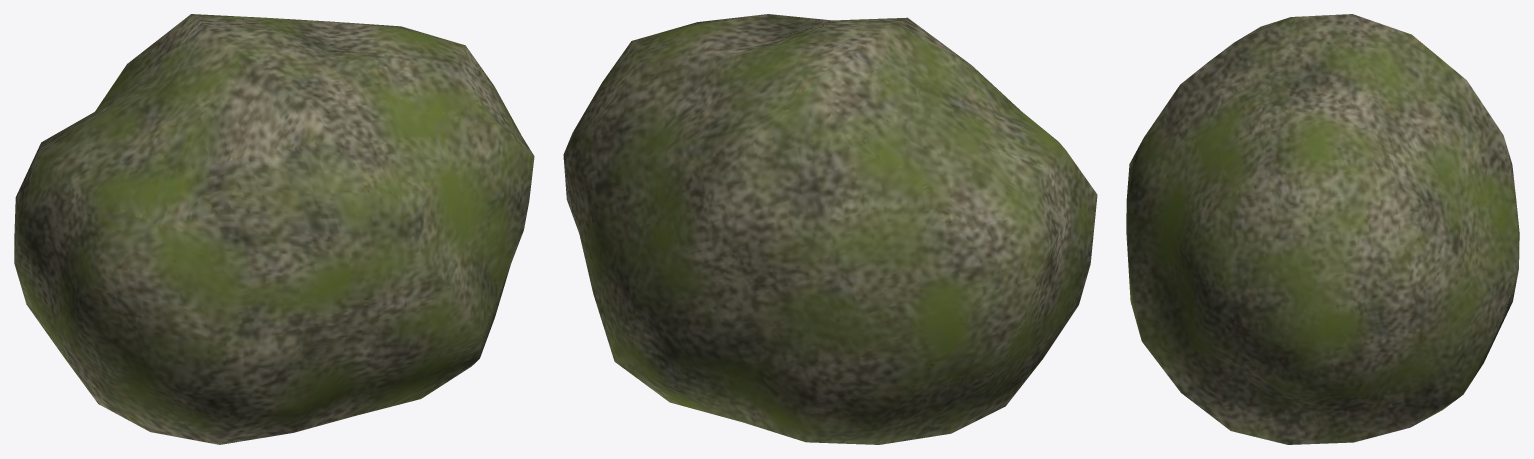
Rendered from Mossy_Stone.glb.
3 renders of one model, left to right at view 1: azimuth 30°, elevation 25°; view 2: azimuth 150°, elevation 25°; view 3: azimuth 270°, elevation 25°, orthographic. The views are drawn at different scales.
Parts seen in each view (by area): view 1: Mossy_Stone; view 2: Mossy_Stone; view 3: Mossy_Stone.
Boxes of the visible parts, box(x1,y1,x2,y2) form: Mossy_Stone: box(14, 14, 534, 444); Mossy_Stone: box(563, 14, 1097, 444); Mossy_Stone: box(1126, 14, 1519, 444).
Size of the model in its own units: 1.02 by 0.7048 by 0.7596.
Materials: 1 (1 with a texture image).
